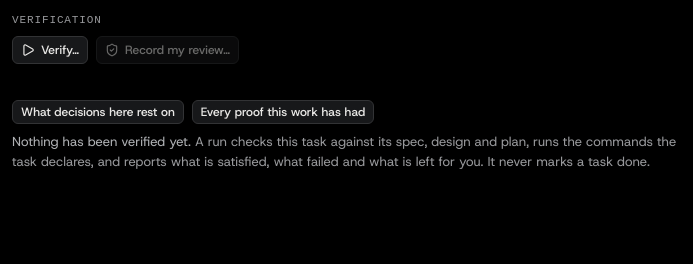
Test: what a decision rests on › says when a decision's evidence is still what the record points at
The image size is (693, 264).
Click the button "What decisions here rest on". click: [98, 112]
box: [12,100,184,124]
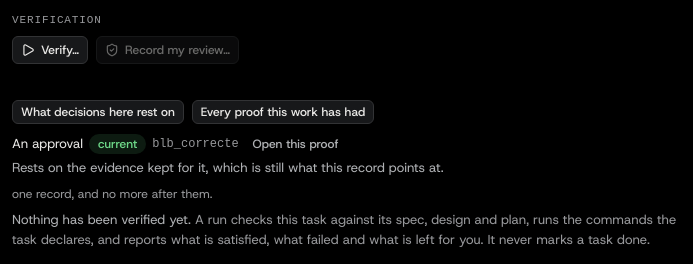
Expected: the text "An approval" is shown, [12,134,83,154]
Expected: the text "still what this record points at" is shown, [12,159,444,176]
